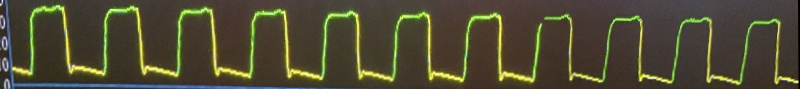normal_pressure: (5, 5, 800, 89)
